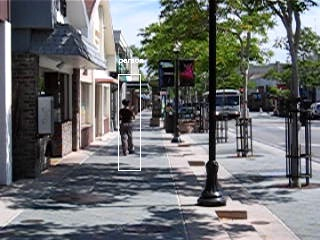person: (118, 99, 137, 156), (117, 99, 136, 156), (119, 99, 138, 156), (118, 98, 137, 155), (118, 100, 137, 157)
target_negative: (70, 52, 267, 117), (83, 46, 220, 111), (78, 181, 185, 203), (206, 12, 279, 42), (172, 215, 196, 226), (217, 190, 224, 198)
